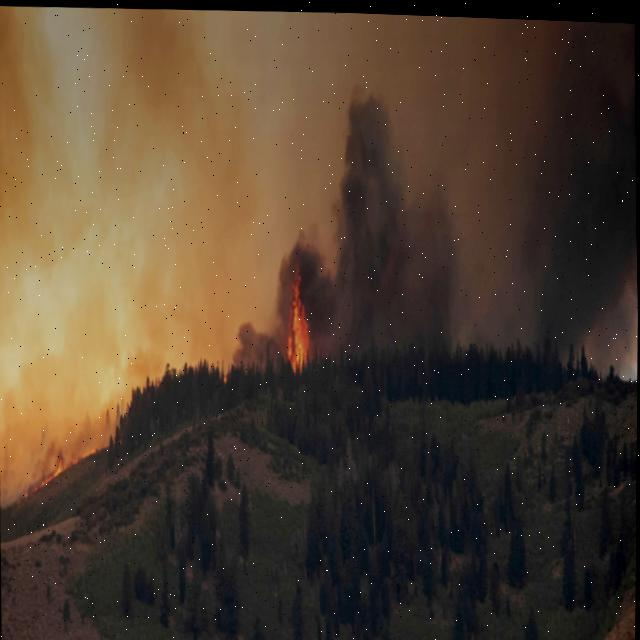fire: (289, 293, 310, 373)
smoke: (0, 6, 638, 507)
